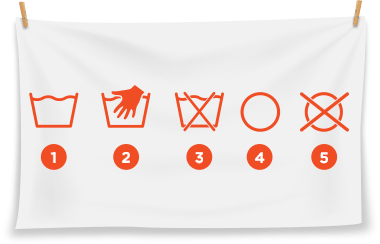do_not_dry_clean: (295, 87, 351, 139)
do_not_wash: (168, 87, 227, 135)
